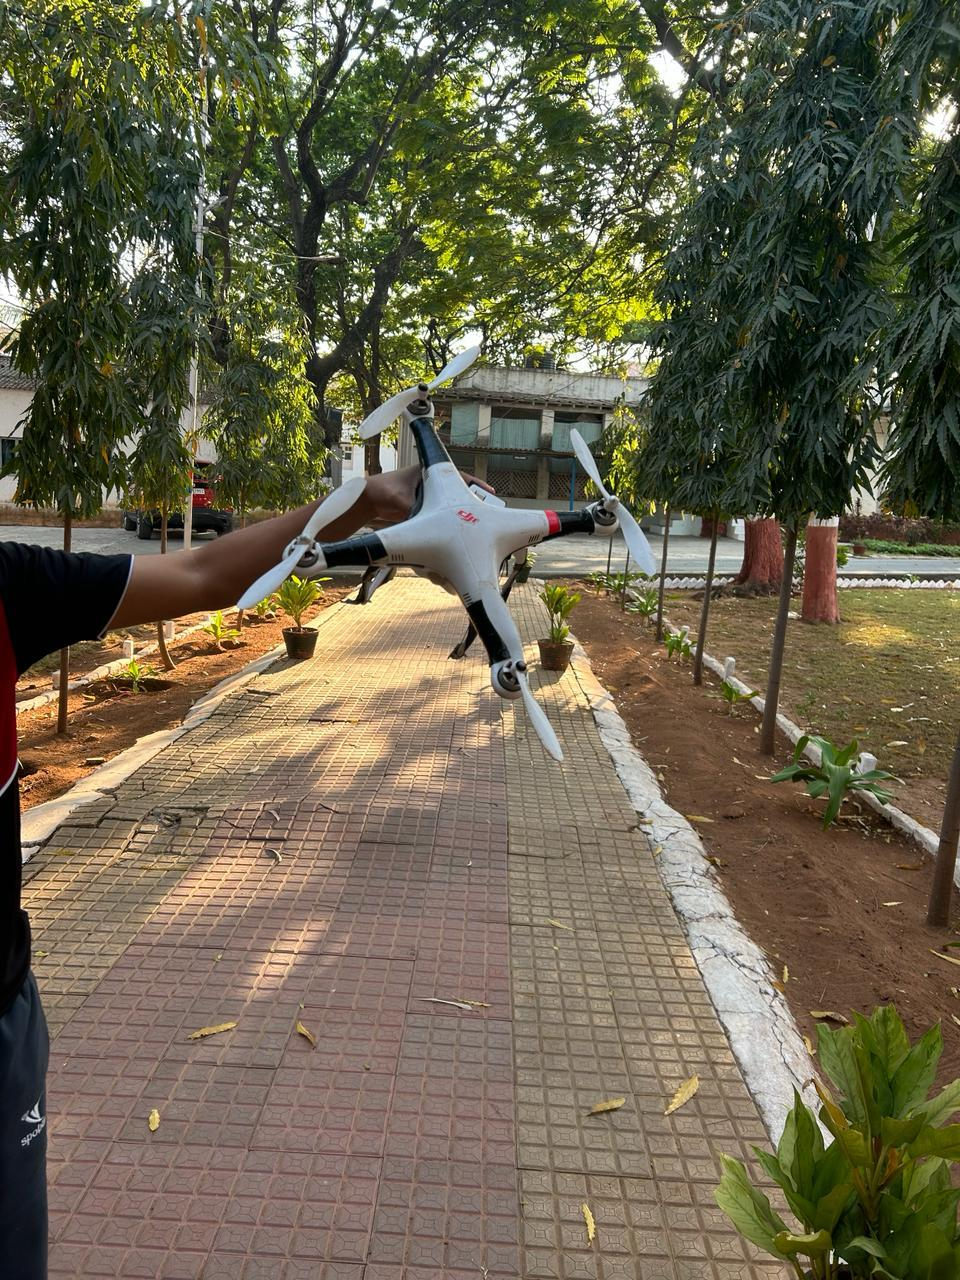drone: (236, 343, 661, 763)
